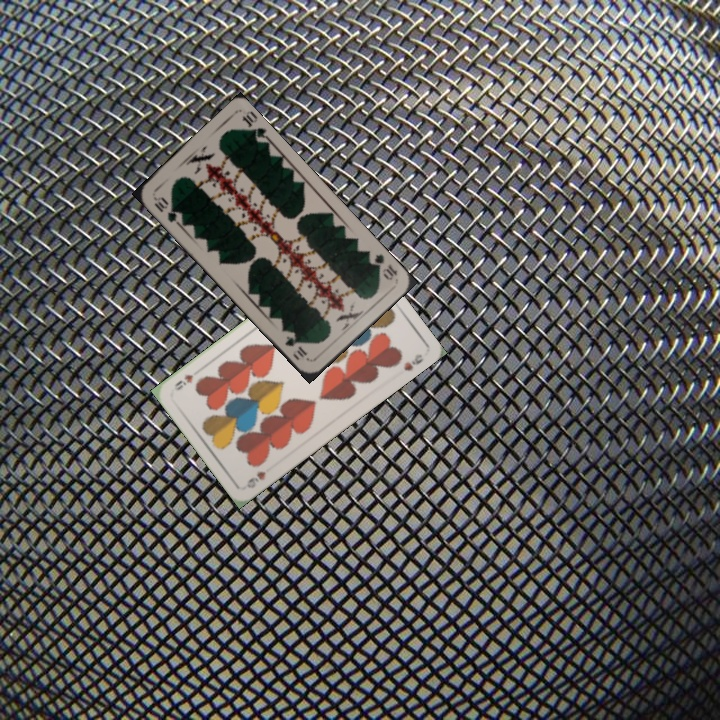G10: (150, 192, 181, 226), (369, 250, 400, 283)
H9: (243, 467, 268, 491)
